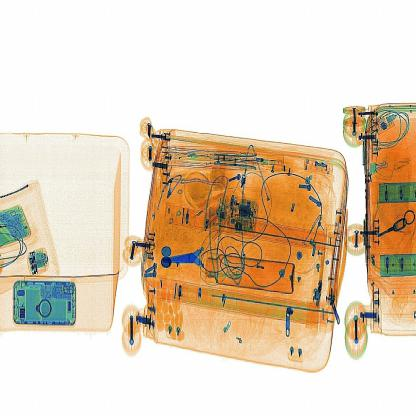gun: (158, 233, 230, 295)
